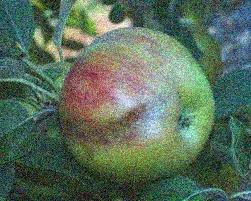rotten apple: (51, 27, 216, 182)
